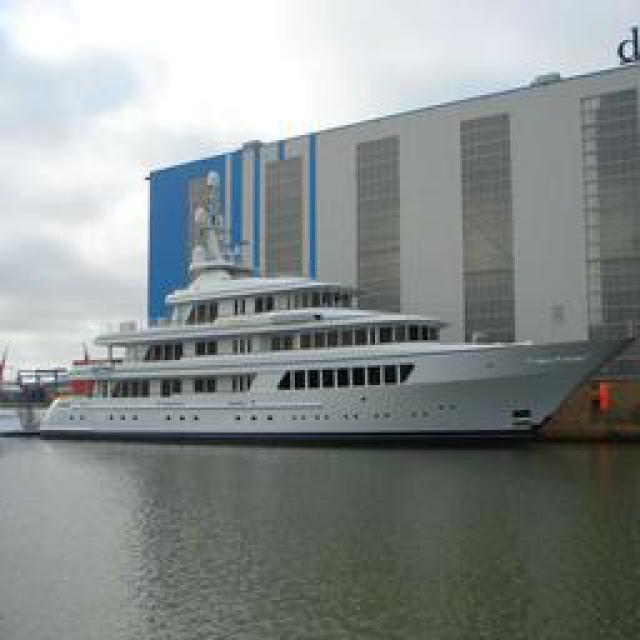Ship: (38, 190, 638, 453)
